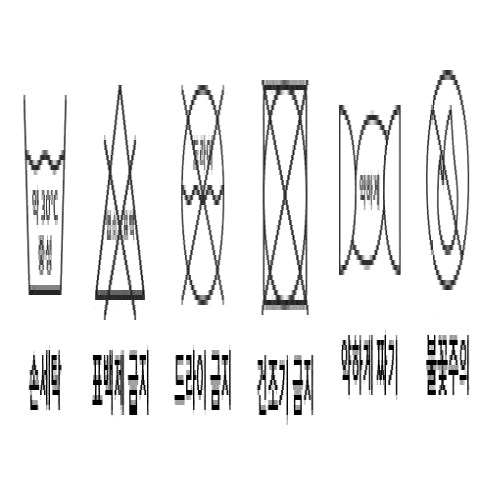30C: (17, 80, 82, 308)
DN_dry_clean: (175, 75, 238, 314)
DN_tumble_dry: (253, 76, 326, 326)
non_chlorine_bleach: (88, 83, 158, 316)
wring: (336, 98, 412, 277)
